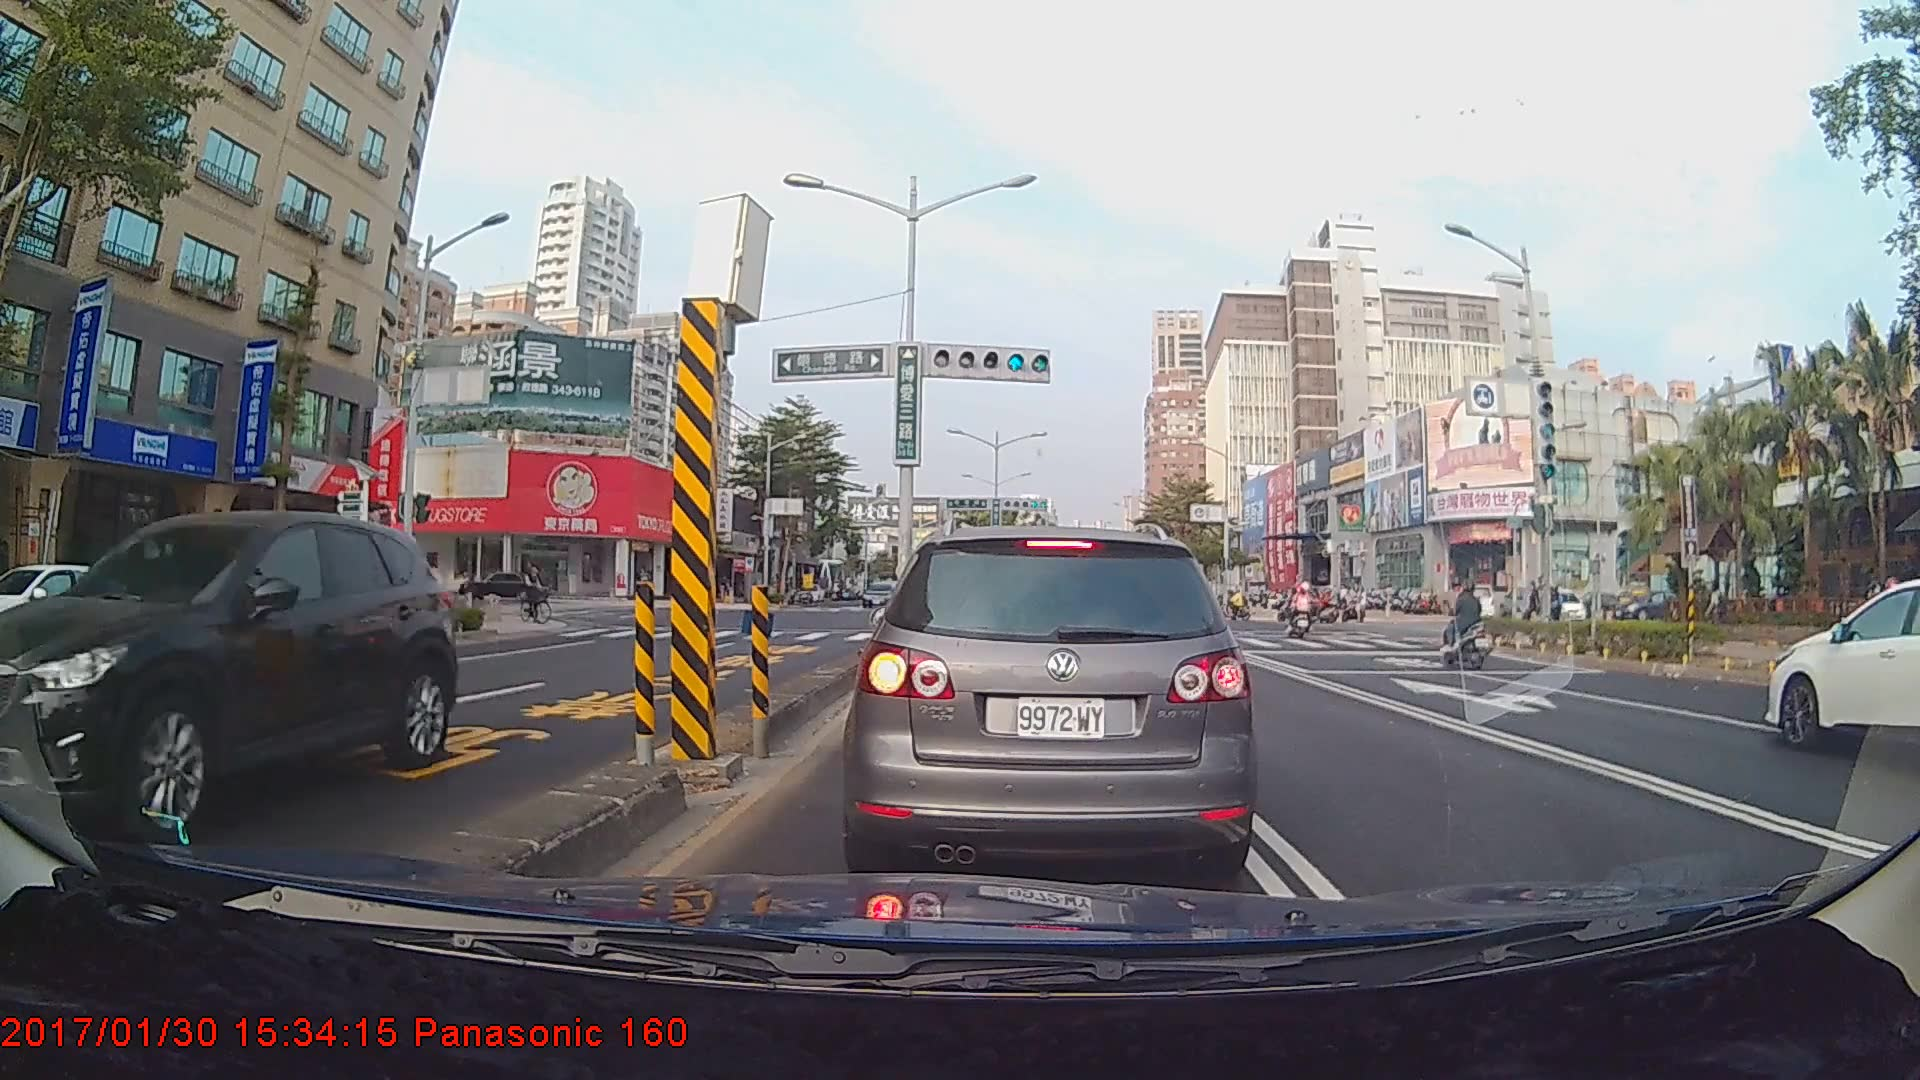pedestrian: (1706, 582, 1729, 642)
rider: (1440, 580, 1499, 669), (518, 559, 561, 629), (1285, 581, 1316, 644), (1449, 582, 1478, 646)
vehicle: (0, 508, 459, 850), (852, 522, 1251, 876), (1764, 576, 1919, 756), (458, 568, 550, 601)
